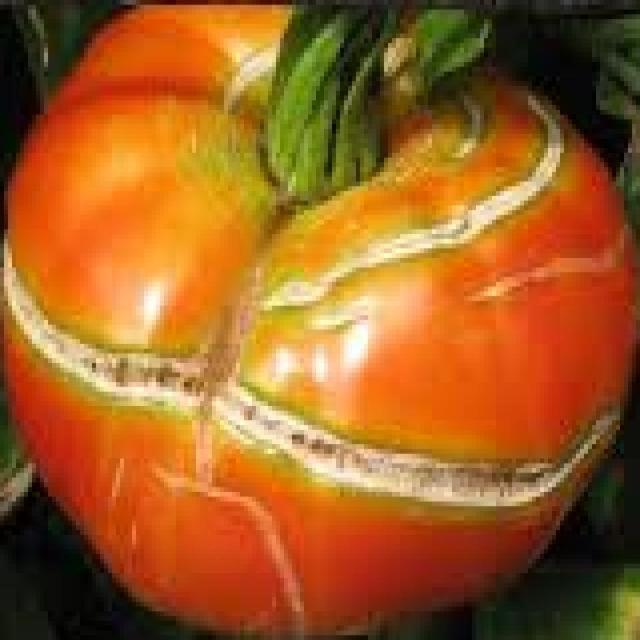Cracking Fruit: (185, 47, 426, 252)
